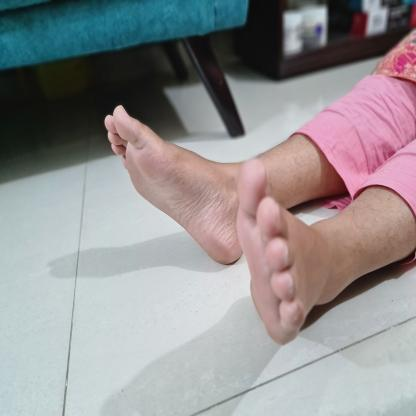leg: (229, 154, 416, 350), (98, 94, 296, 275)
